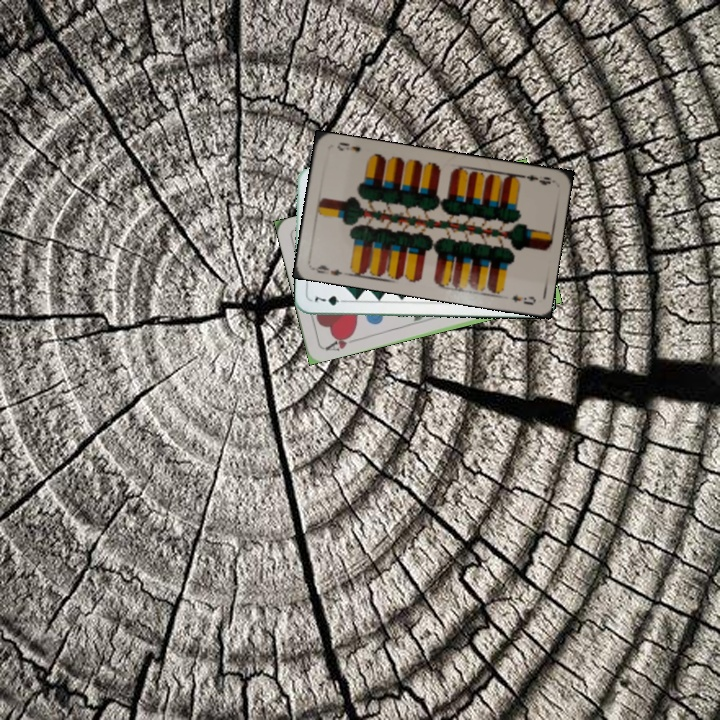E9: (515, 170, 555, 188), (309, 261, 345, 278)
G7: (311, 292, 350, 308)
HA: (321, 329, 360, 353)
